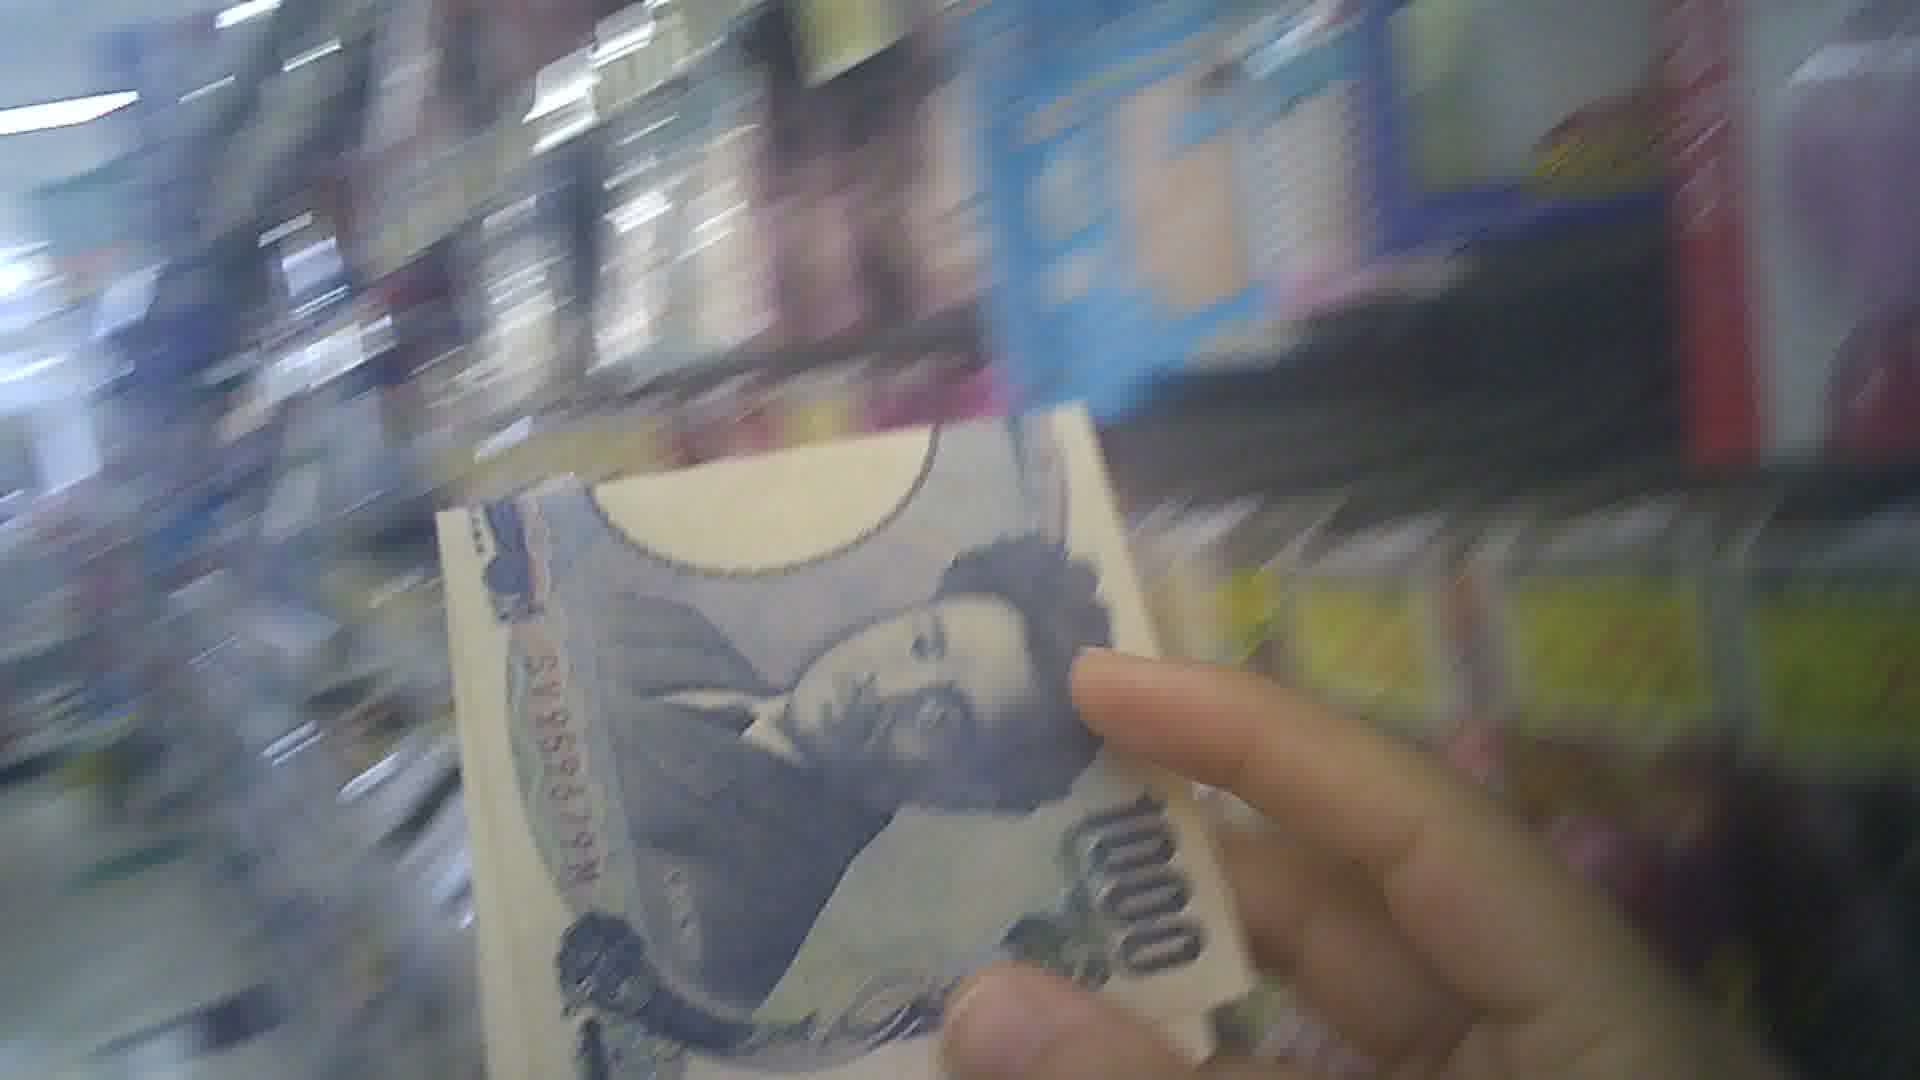1,000 Yen: (415, 419, 1249, 1079)
